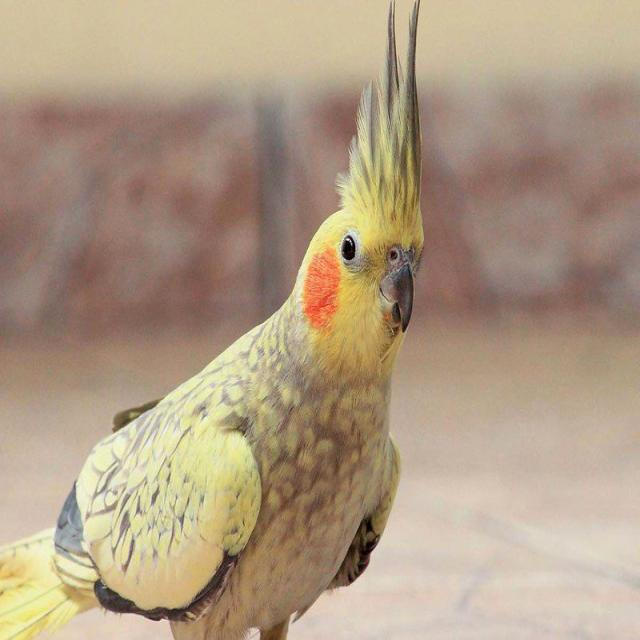parrot: (1, 0, 424, 639)
